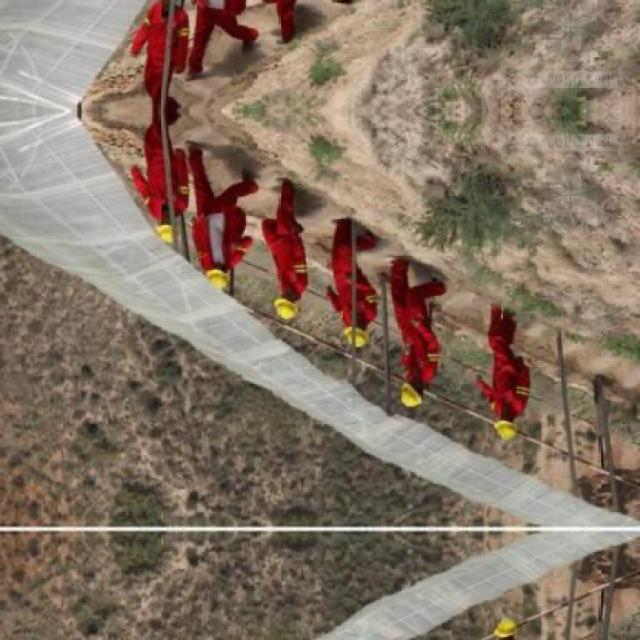con casco: (352, 386, 428, 416), (305, 320, 363, 352), (258, 283, 302, 325), (174, 267, 221, 300), (491, 403, 521, 452), (131, 217, 167, 248)
